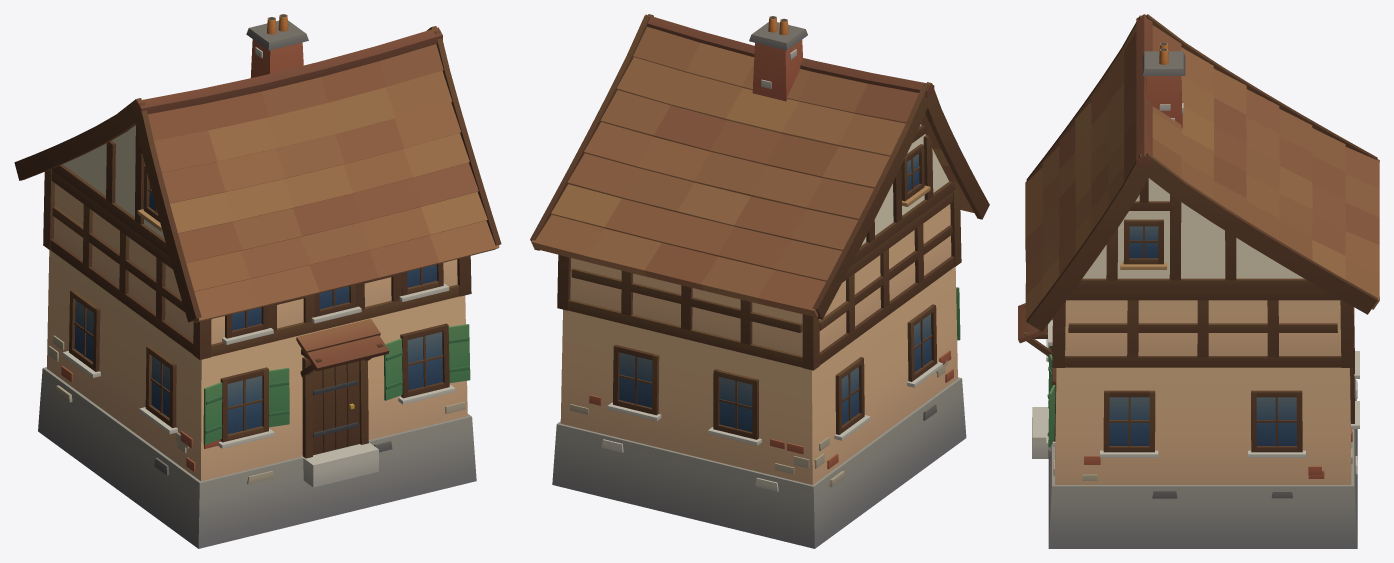
The model's file is house_10_saltbox.glb.
3 views of the same model, side by side, from view 1: azimuth 30°, elevation 25°; view 2: azimuth 150°, elevation 25°; view 3: azimuth 270°, elevation 25° (orthographic). The views are drawn at different scales.
Visible parts, largest first — view 1: house_10_saltbox; view 2: house_10_saltbox; view 3: house_10_saltbox.
Part boxes in pixels (x1=…): house_10_saltbox: x1=14, y1=14, x2=501, y2=548; house_10_saltbox: x1=530, y1=14, x2=989, y2=548; house_10_saltbox: x1=1018, y1=14, x2=1379, y2=548.
Size of the model in its own units: 26.03 by 36.97 by 27.75.
Materials: 1 (1 with a texture image).
